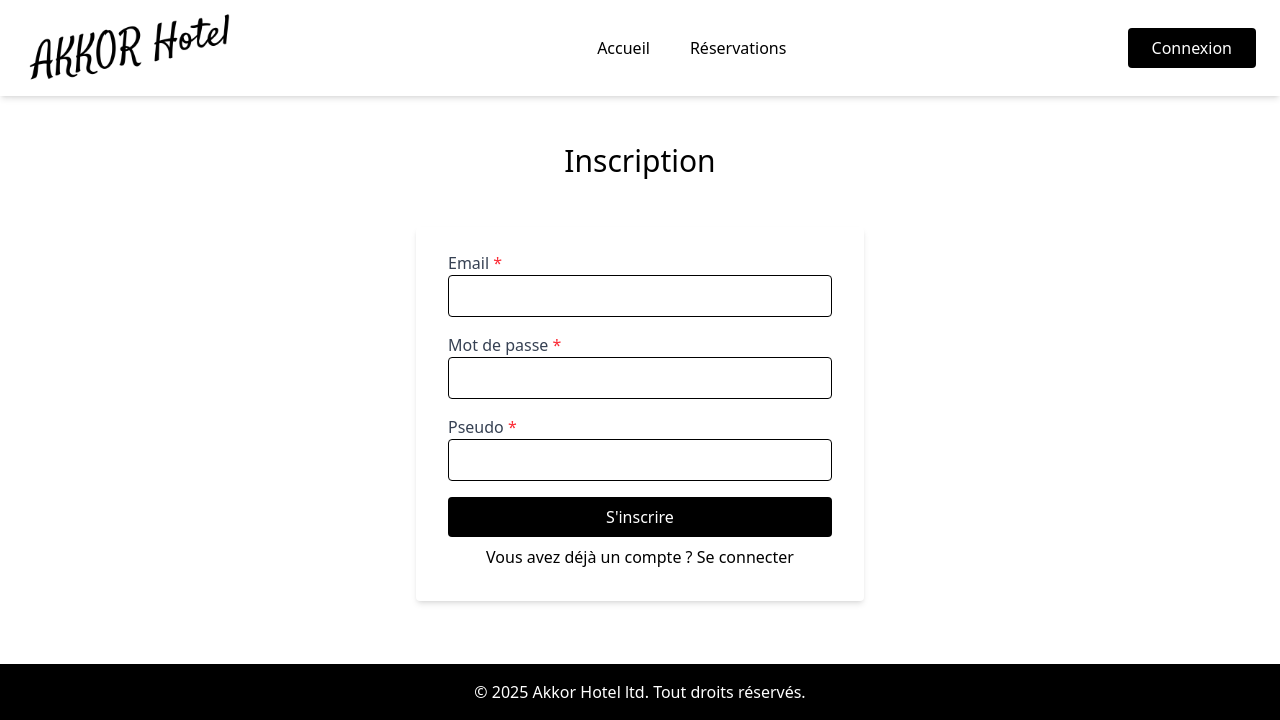
Test case: Register Page › submits the form and handles successful registration
Type "test@example.com" into the field labelled "Email *" at x=640, y=296, box [448,275,832,317]
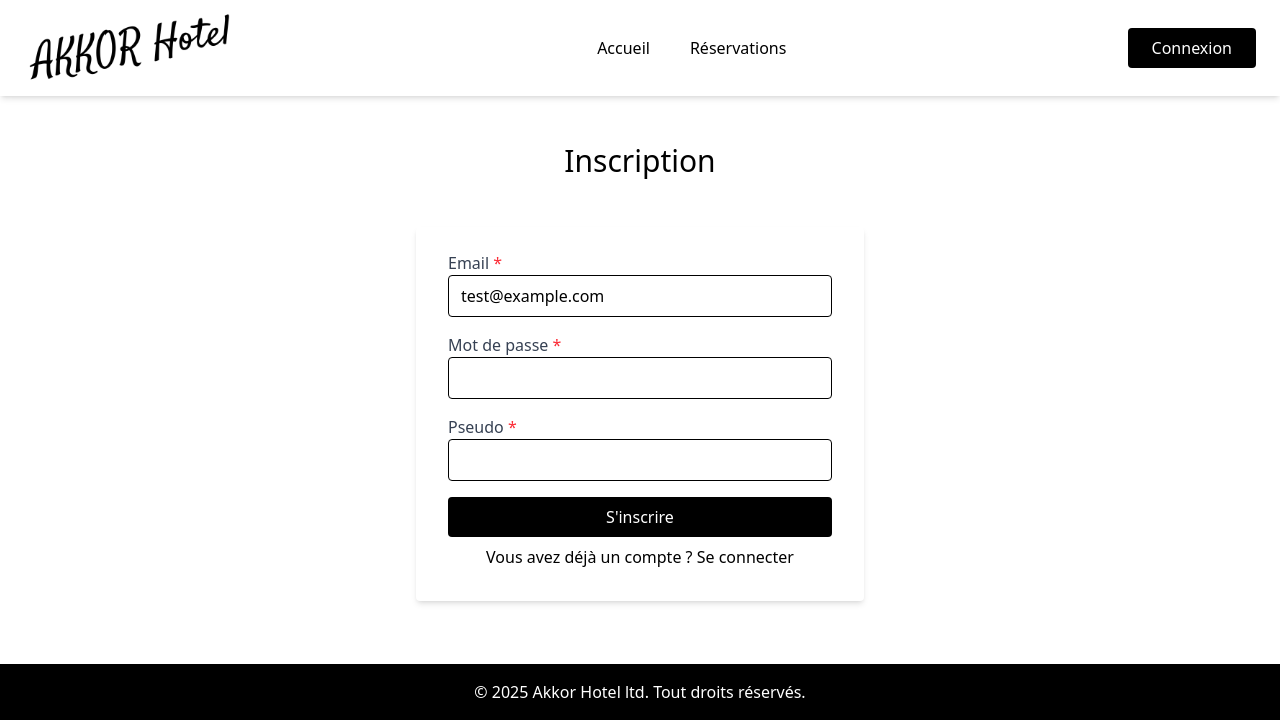
Type "password123" into the password field labelled "Mot de passe *" at x=640, y=378, box [448,357,832,399]
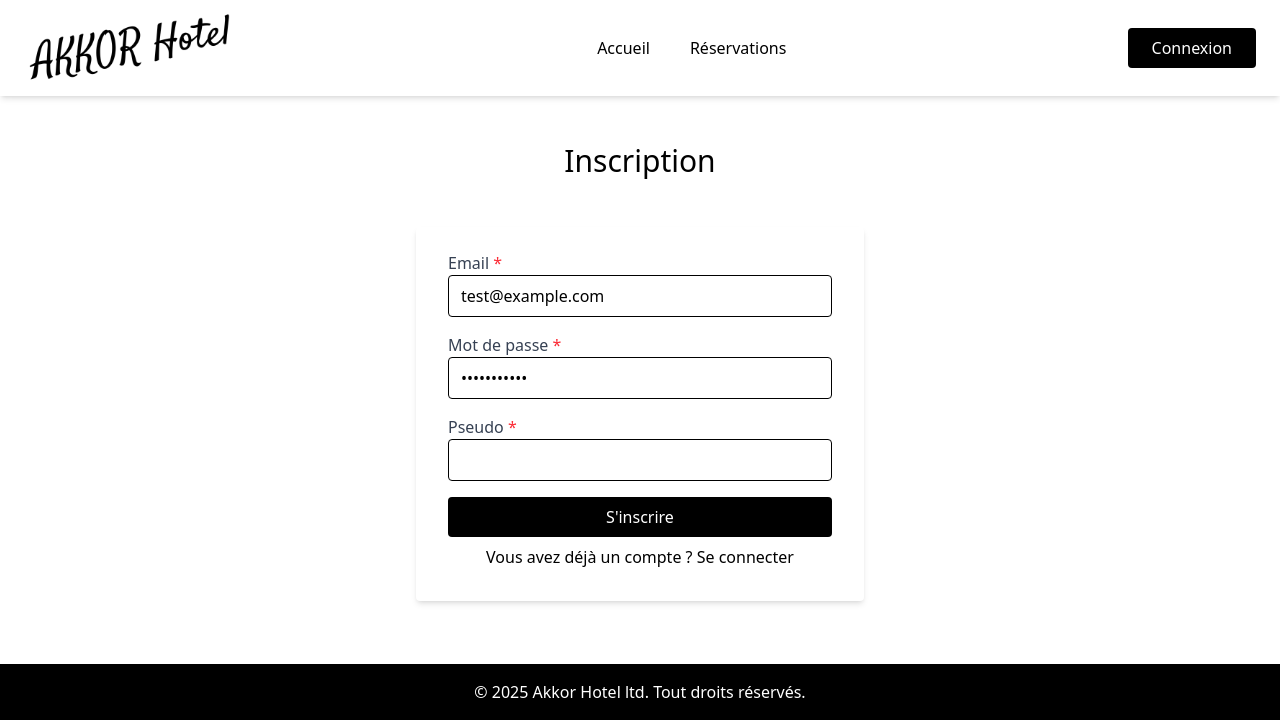
Type "testuser" into the field labelled "Pseudo *" at x=640, y=460, box [448,439,832,481]
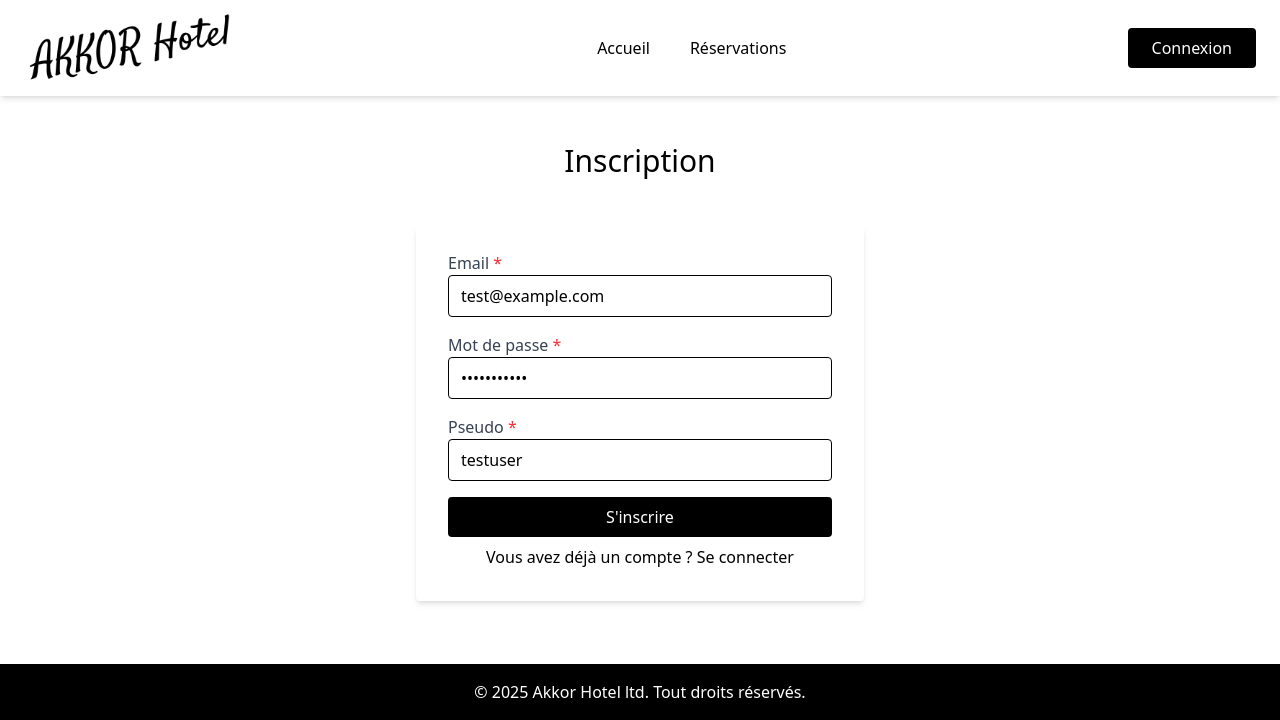
Click the button "S'inscrire" at x=640, y=517, box [448,497,832,537]
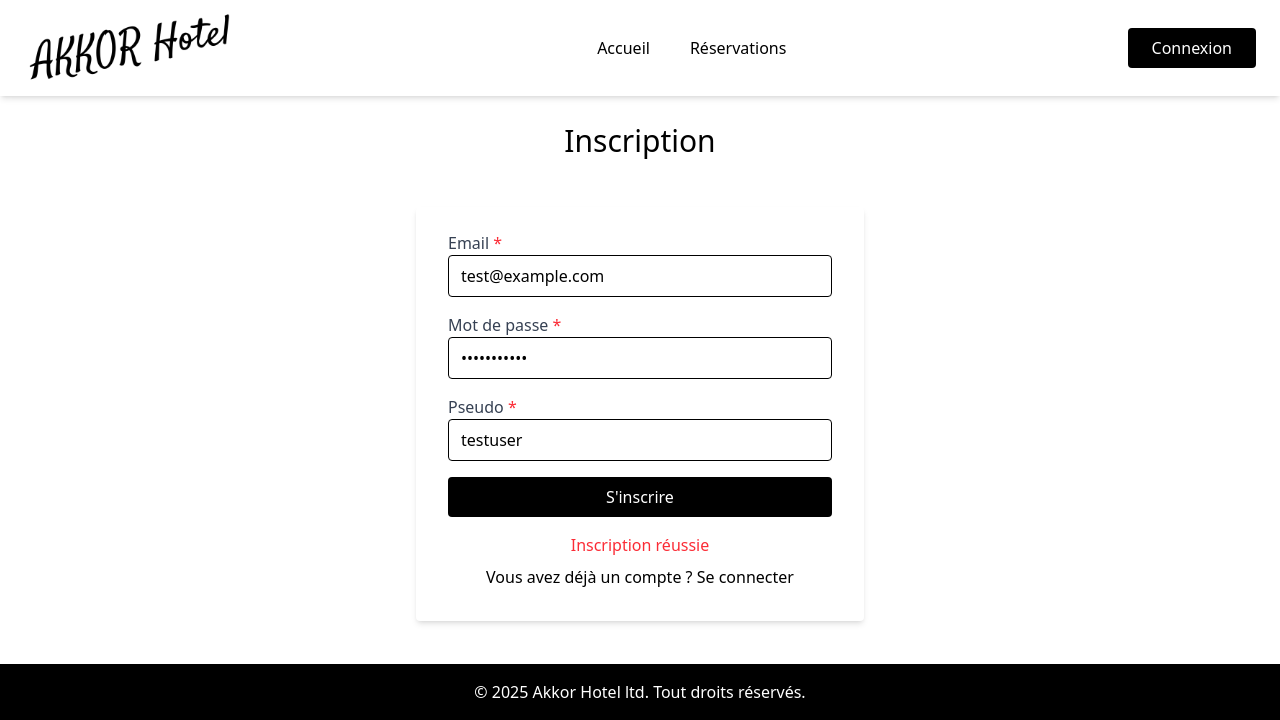
expect the text "Inscription réussie" is shown: met, box [571,534,709,556]
